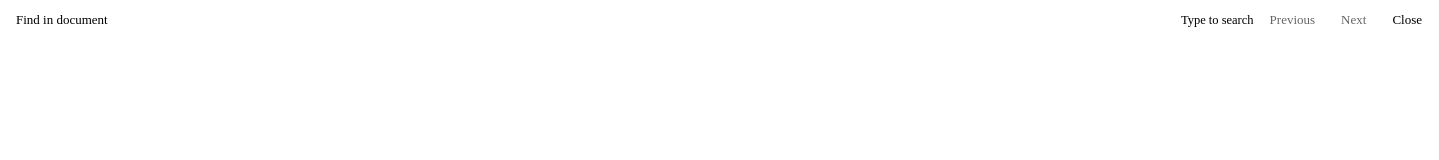
Scenario: find in document › steps forward and back through the matches
Type "a" into the search field at (591, 20), box [8,6,1175,34]
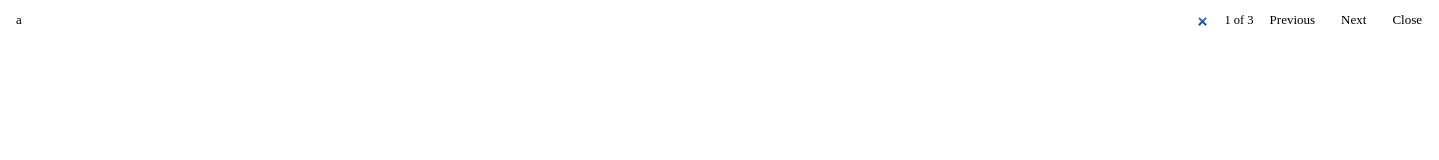
Click the button with aria-label "Next match" at (1354, 20), box [1331,6,1376,34]
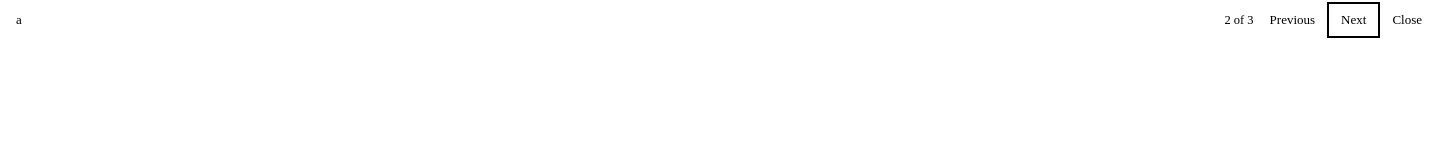
Now the message reads "2 of 3", box [1224,13,1254,27]
Click the button with aria-label "Previous match" at (1292, 20), box [1260,6,1325,34]
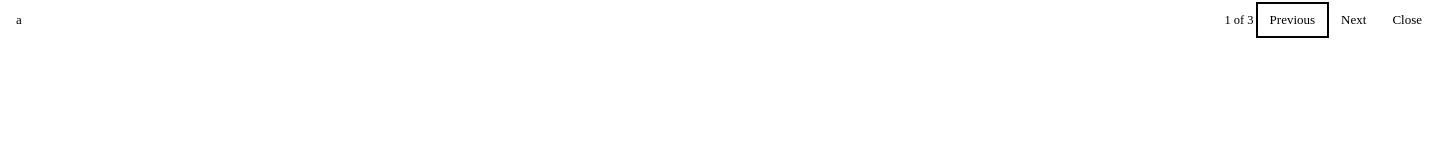
Now the message reads "1 of 3", box [1224,13,1254,27]
